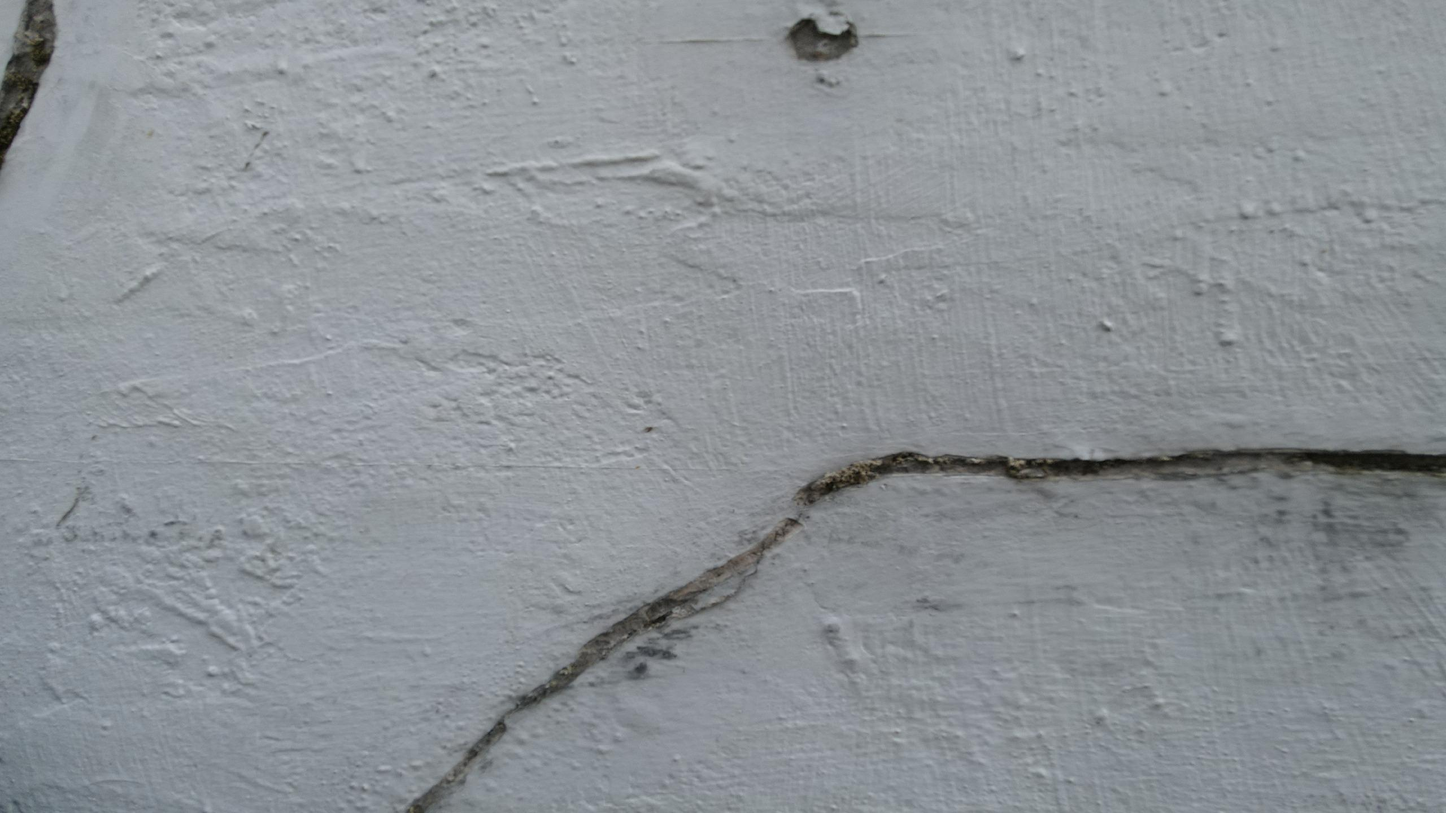crack: (397, 437, 1437, 811)
